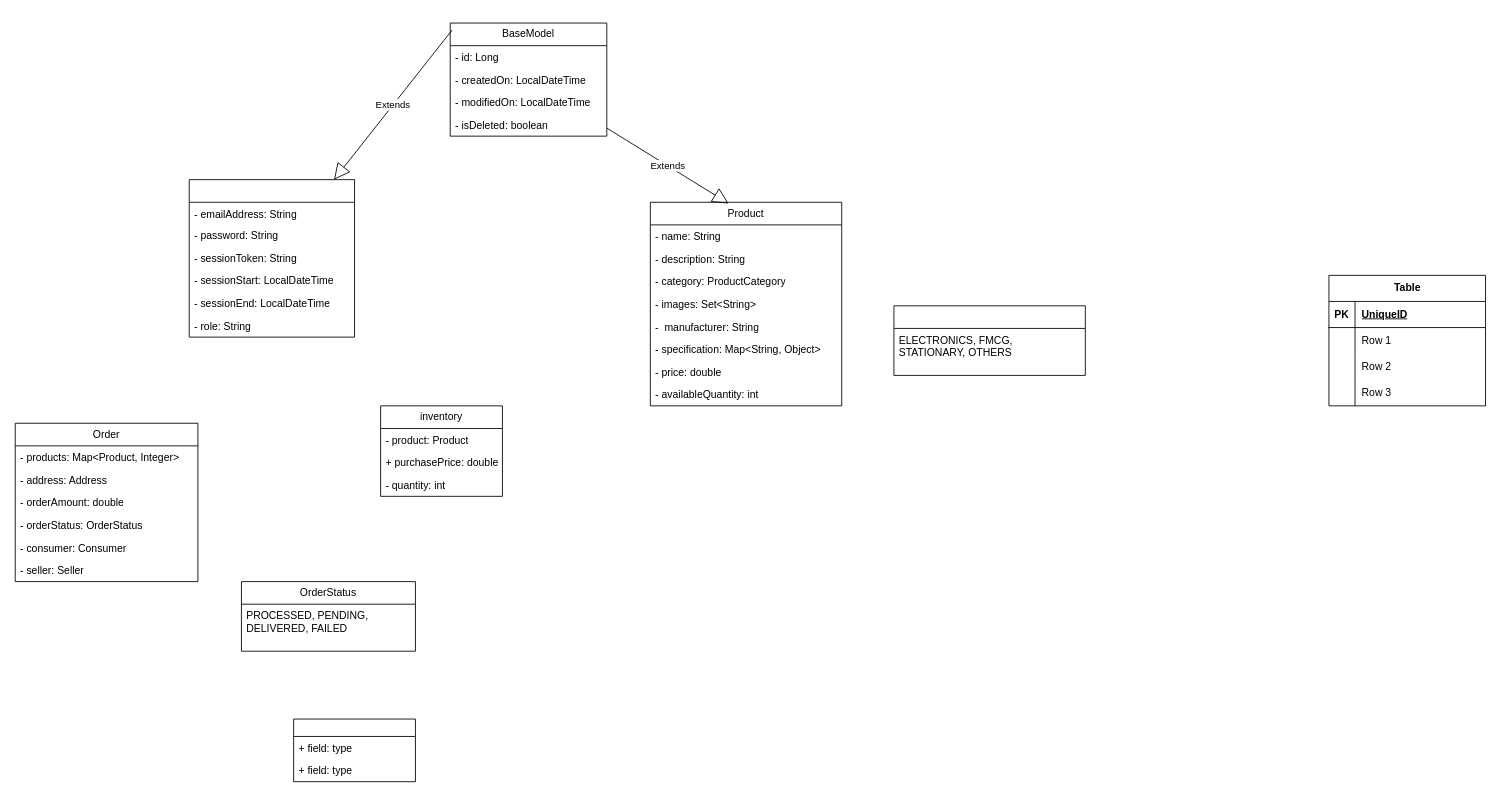
The diagram is 1501 pixels wide and 800 high, and some of its shapes have lost their labels. The box of each missing label's shape, as (x1, y1, x2, y2) in pixels:
ProductCategory: (893, 305, 1085, 375)
Transaction: (293, 718, 415, 782)
User: (188, 179, 355, 337)
